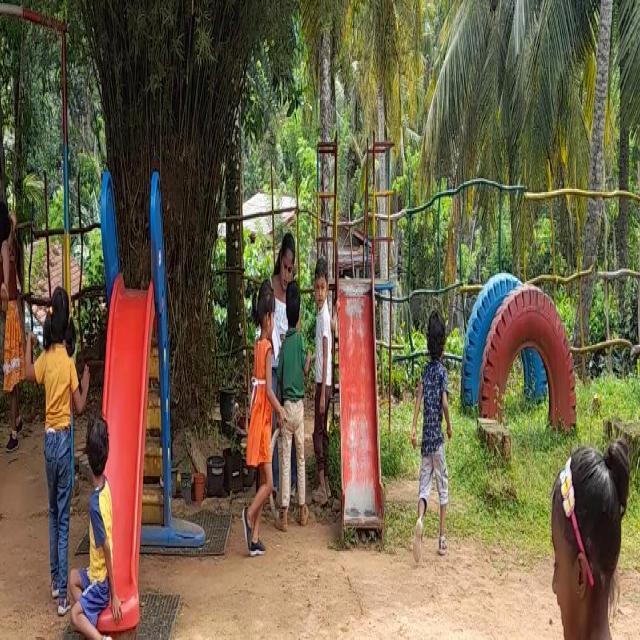child: (522, 442, 639, 640), (44, 290, 79, 608), (239, 294, 276, 566), (72, 421, 115, 640), (308, 236, 339, 516), (278, 285, 314, 522), (416, 309, 451, 545), (0, 147, 17, 310)
